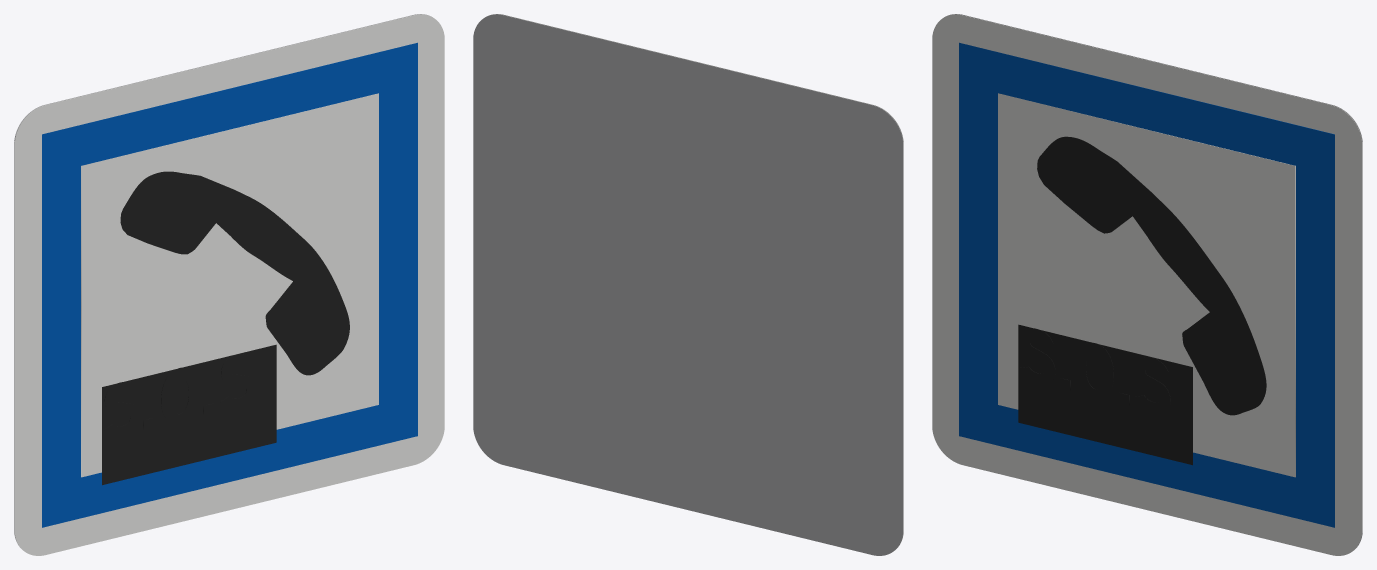
3 views of the same model, side by side, from view 1: azimuth 30°, elevation 25°; view 2: azimuth 150°, elevation 25°; view 3: azimuth 330°, elevation 25° (orthographic).
Parts seen in each view (by area): view 1: CE2a_p02, CE2a_p01, CE2a_p00, CE2a_p03, CE2a_p04, CE2a_p07, CE2a_p09, CE2a_p05, CE2a_dos; view 2: CE2a_dos, CE2a_p00; view 3: CE2a_p02, CE2a_p01, CE2a_p00, CE2a_p03, CE2a_p04, CE2a_p07, CE2a_p05, CE2a_p09, CE2a_dos.
Boxes of the visible parts, x1,y1,x2,y2 form: CE2a_p02: [81, 93, 378, 477]; CE2a_p01: [42, 42, 417, 527]; CE2a_p00: [14, 14, 444, 555]; CE2a_p03: [120, 171, 349, 375]; CE2a_p04: [102, 344, 276, 485]; CE2a_p07: [161, 367, 198, 423]; CE2a_p09: [220, 354, 255, 409]; CE2a_p05: [104, 381, 139, 437]; CE2a_dos: [14, 14, 431, 547]; CE2a_dos: [473, 14, 903, 555]; CE2a_p00: [486, 14, 903, 547]; CE2a_p02: [998, 93, 1295, 477]; CE2a_p01: [959, 42, 1334, 527]; CE2a_p00: [932, 14, 1362, 555]; CE2a_p03: [1037, 136, 1266, 415]; CE2a_p04: [1018, 324, 1192, 465]; CE2a_p07: [1076, 342, 1113, 398]; CE2a_p05: [1020, 328, 1055, 384]; CE2a_p09: [1135, 357, 1170, 412]; CE2a_dos: [945, 14, 1362, 547].
Bounding box in the file's own units: 0.7 × 0.6999 × 0.0055.
